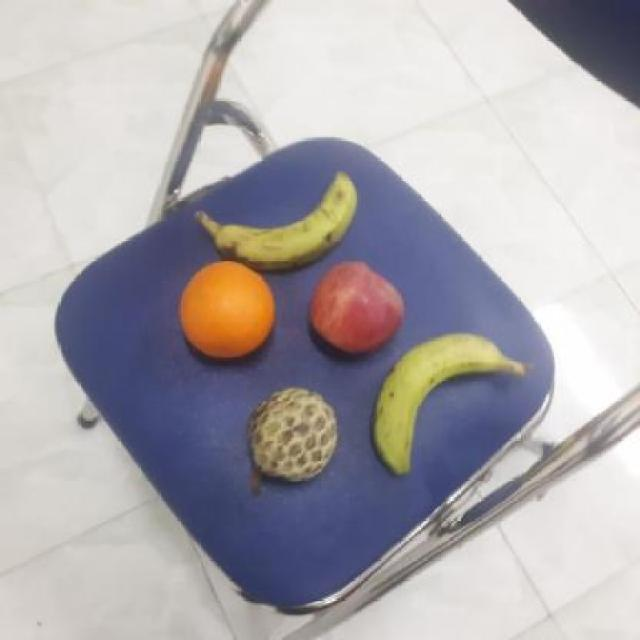apple: (175, 258, 279, 362), (305, 256, 409, 358)
banana: (368, 324, 504, 474), (206, 171, 360, 271)
sugar apple: (242, 383, 344, 488)
